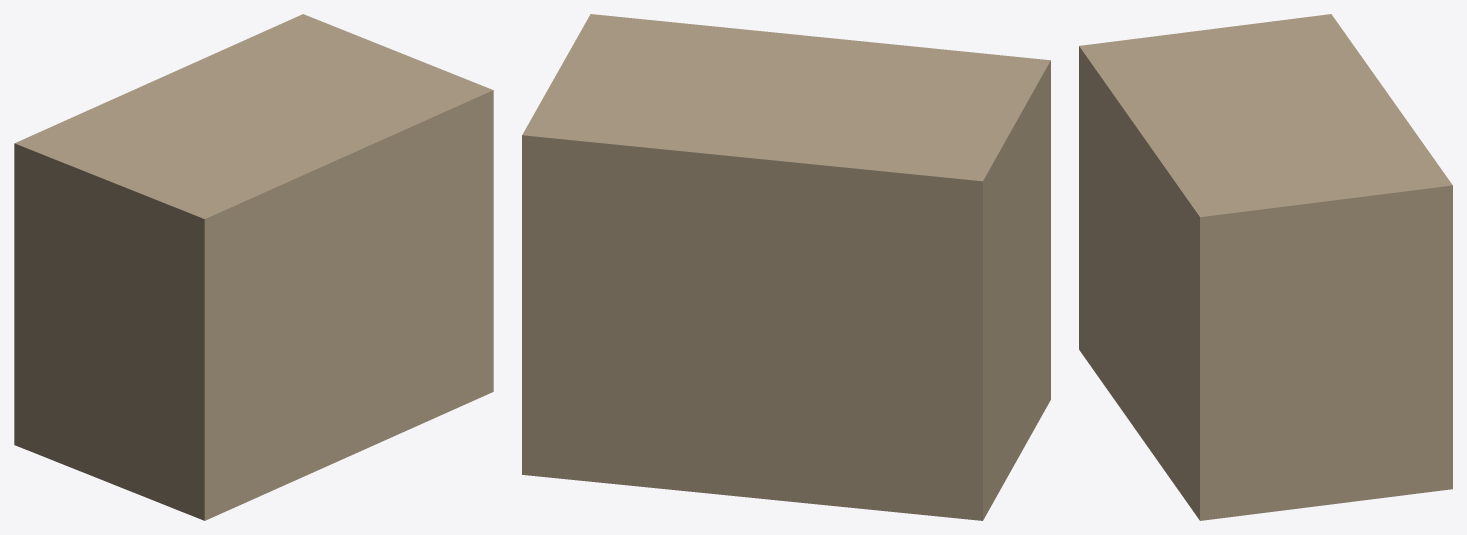
The model's file is bld_108162258.dae.
The picture shows the model from 3 angles, left to right: view 1: azimuth 30°, elevation 25°; view 2: azimuth 150°, elevation 25°; view 3: azimuth 270°, elevation 25°; orthographic projection. The views are drawn at different scales.
Visible parts, largest first — view 1: bld_108162258; view 2: bld_108162258; view 3: bld_108162258.
Part boxes in pixels (x1,y1,x2,y2): bld_108162258: [14, 14, 493, 520]; bld_108162258: [522, 14, 1050, 520]; bld_108162258: [1079, 14, 1452, 520].
Bounding box in the file's own units: 11.48 × 8.92 × 8.
